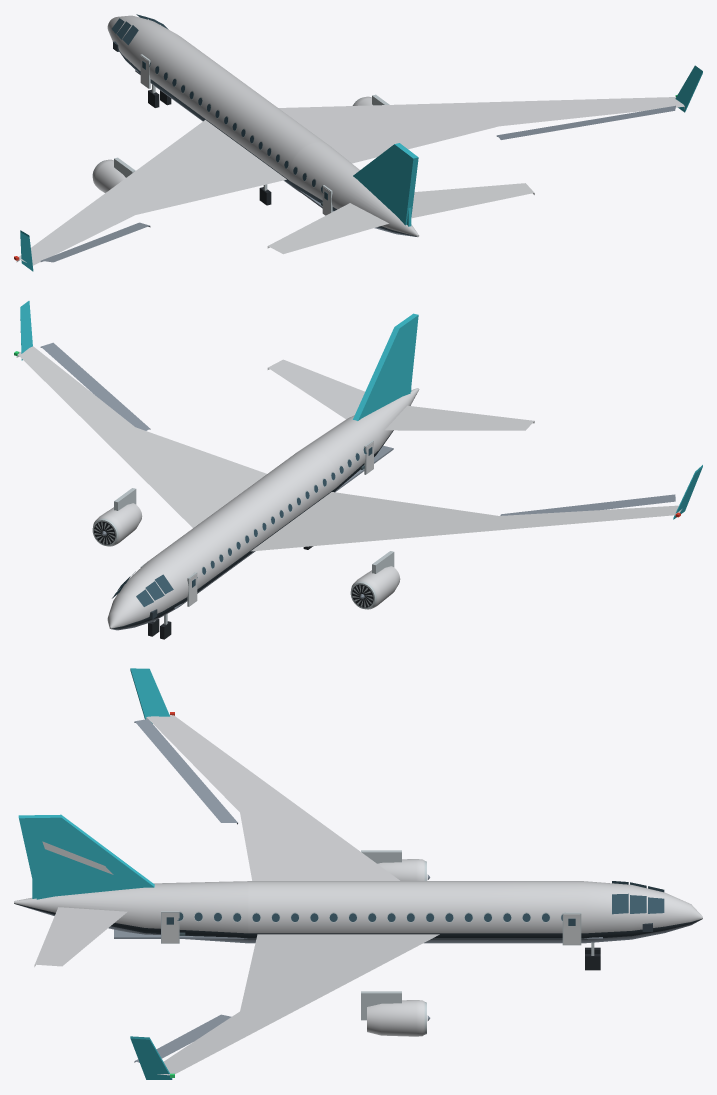
File: aether.glb
3 views of the same model, one above another, from view 1: azimuth 30°, elevation 25°; view 2: azimuth 150°, elevation 25°; view 3: azimuth 270°, elevation 25° (orthographic). The views are drawn at different scales.
Visible parts, largest first — view 1: wing_r, wing_l, body_mid, body_front, elevator, body_aft, tail, aileron_r, engine_l, cabin_windows, aileron_l, doors (+2 smaller); view 2: wing_r, wing_l, body_front, body_mid, elevator, body_aft, tail, engine_l, engine_r, aileron_r, aileron_l, cabin_windows (+2 smaller); view 3: wing_l, wing_r, body_mid, body_front, body_aft, tail, elevator, engine_r, aileron_l, cabin_windows, doors, engine_l (+3 smaller).
Boxes of the visible parts, x1,y1,x2,y2 form: wing_r: (278, 65, 702, 163); wing_l: (14, 120, 286, 271); body_mid: (191, 70, 327, 189); body_front: (107, 15, 229, 117); elevator: (267, 183, 534, 254); body_aft: (289, 142, 419, 237); tail: (353, 143, 418, 225); aileron_r: (496, 105, 675, 139); engine_l: (92, 157, 135, 192); cabin_windows: (149, 59, 323, 193); aileron_l: (40, 222, 150, 262); doors: (140, 54, 332, 215); wing_r: (14, 301, 266, 527); wing_l: (251, 465, 702, 551); body_front: (107, 520, 238, 630); body_mid: (201, 448, 337, 567); elevator: (267, 359, 534, 430); body_aft: (301, 388, 419, 491); tail: (353, 313, 418, 420); engine_l: (350, 551, 400, 609); engine_r: (92, 488, 142, 546); aileron_r: (40, 342, 150, 430); aileron_l: (500, 494, 675, 515); cabin_windows: (193, 446, 366, 578); wing_l: (130, 668, 399, 880); wing_r: (130, 934, 439, 1079); body_mid: (248, 881, 468, 943); body_front: (468, 881, 702, 943); body_aft: (14, 881, 248, 943); tail: (18, 814, 154, 899); elevator: (34, 907, 127, 966); engine_r: (361, 991, 430, 1036); aileron_l: (134, 719, 237, 824); cabin_windows: (177, 911, 565, 922); doors: (161, 911, 581, 945); engine_l: (361, 850, 430, 880).
Bounding box in the file's own units: 36.72 × 6.96 × 29.
